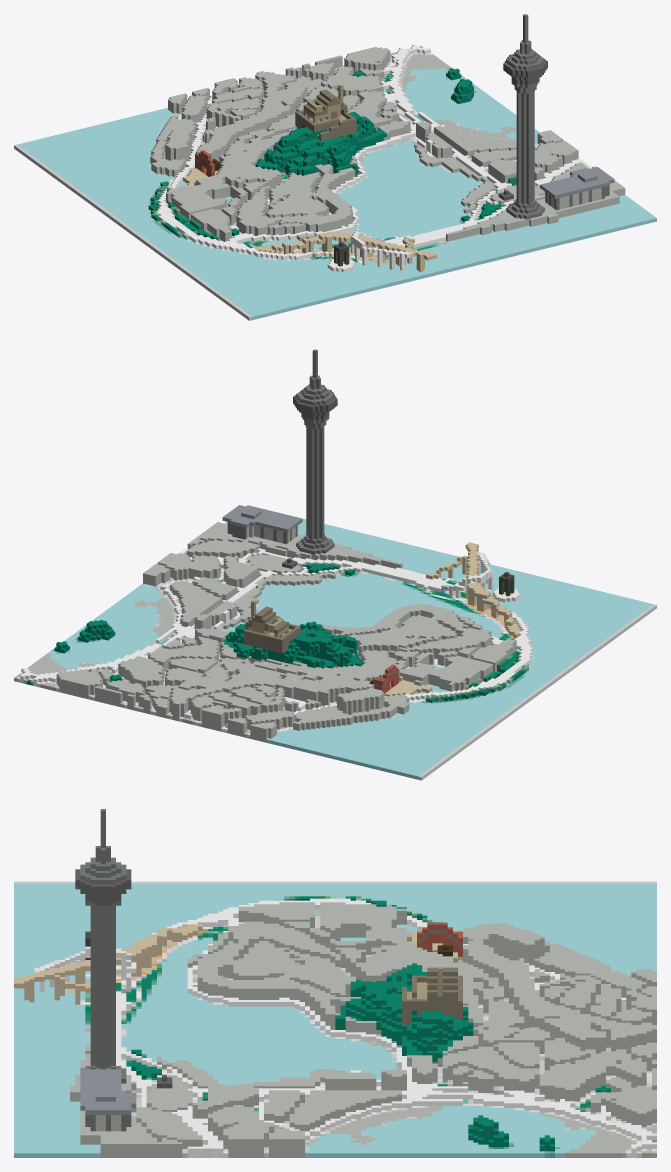
Rendered from 210508macau-6.obj.
The picture shows the model from 3 angles, top to bottom: view 1: azimuth 30°, elevation 25°; view 2: azimuth 150°, elevation 25°; view 3: azimuth 270°, elevation 25°; orthographic projection. The views are drawn at different scales.
Bounding box in the file's own units: 12.6 × 6.1 × 12.6.
Materials: 1 (1 with a texture image).
